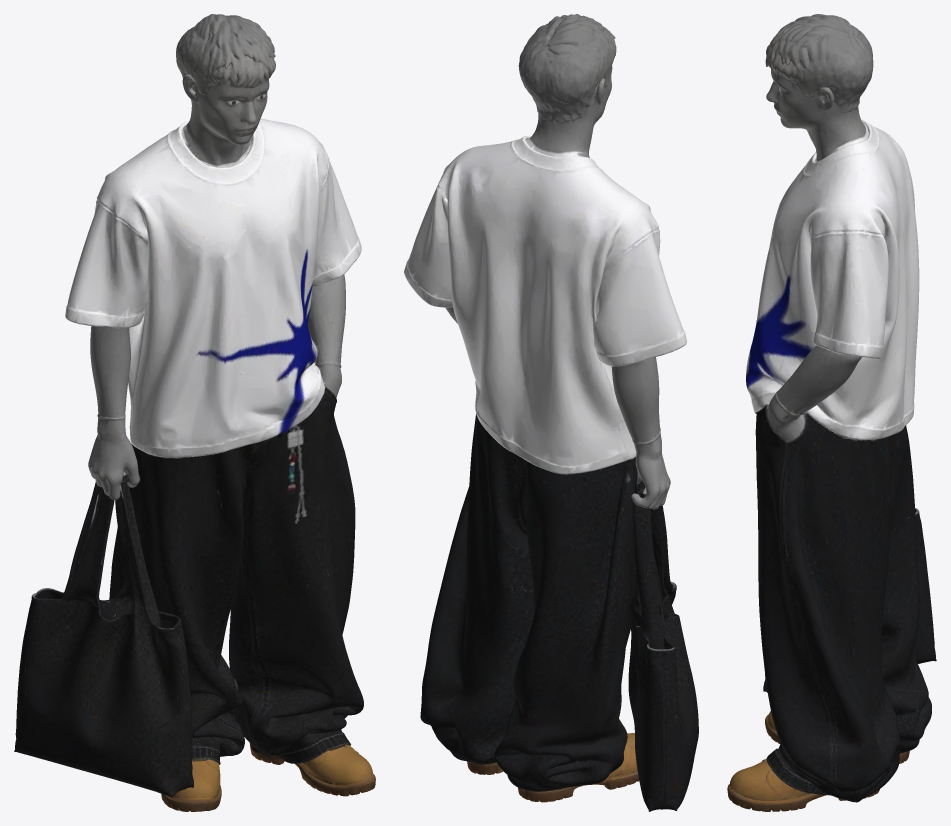
3 renders of one model, left to right at view 1: azimuth 30°, elevation 25°; view 2: azimuth 150°, elevation 25°; view 3: azimuth 270°, elevation 25°, orthographic. The views are drawn at different scales.
Parts seen in each view (by area): view 1: Object_01; view 2: Object_01; view 3: Object_01.
Boxes of the visible parts, x1,y1,x2,y2 form: Object_01: (14, 14, 375, 811); Object_01: (404, 14, 698, 811); Object_01: (727, 14, 936, 811).
Size of the model in its own units: 0.8062 by 1.9 by 0.4858.
1 material, 1 textured.
